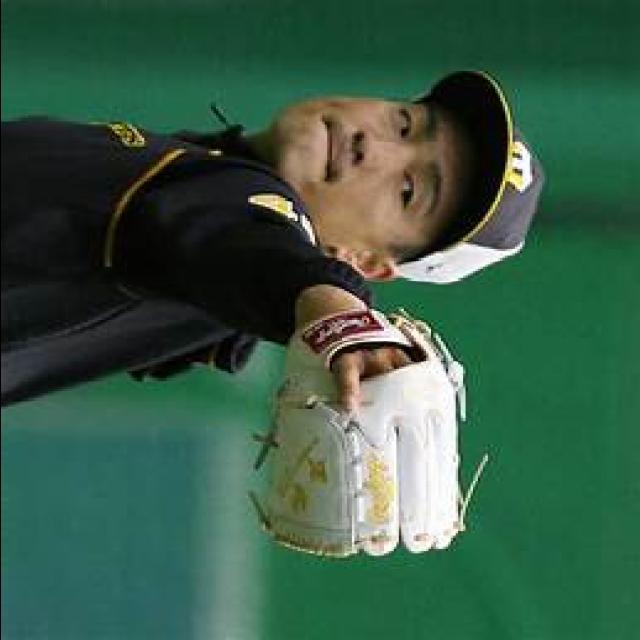glove: (241, 297, 507, 567)
